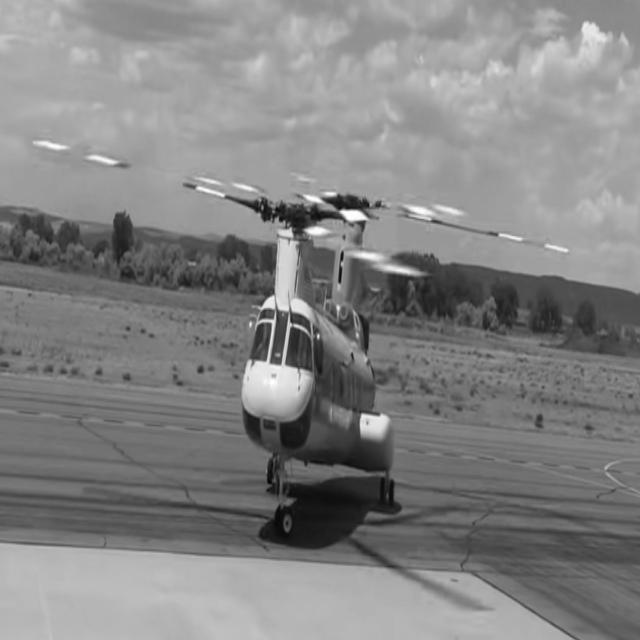Helicopter: (173, 179, 470, 538)
